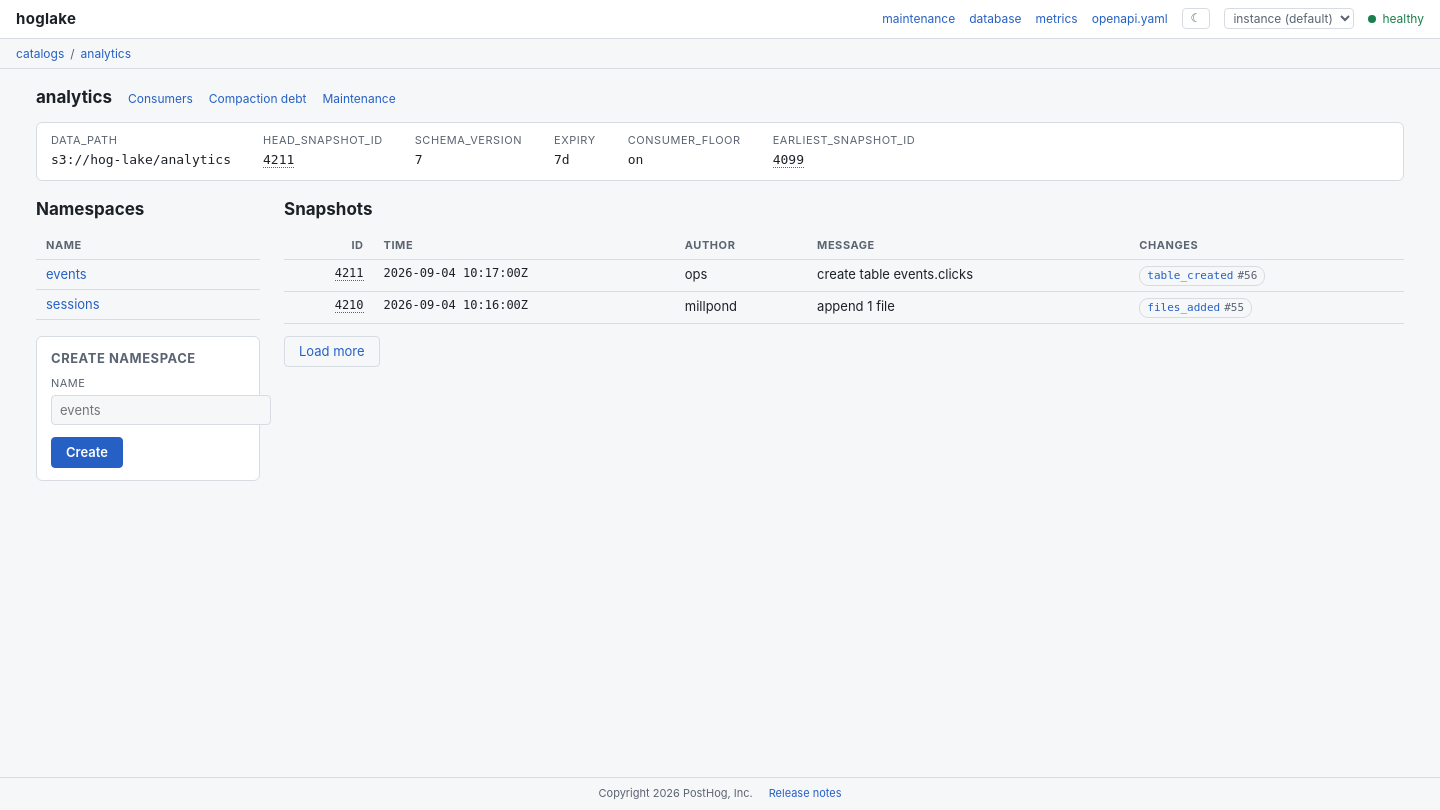
Test: CatalogPage › pages the timeline older via before/limit when Load more is clicked
Click the button "Load more" at (332, 351), box [284,336,380,367]
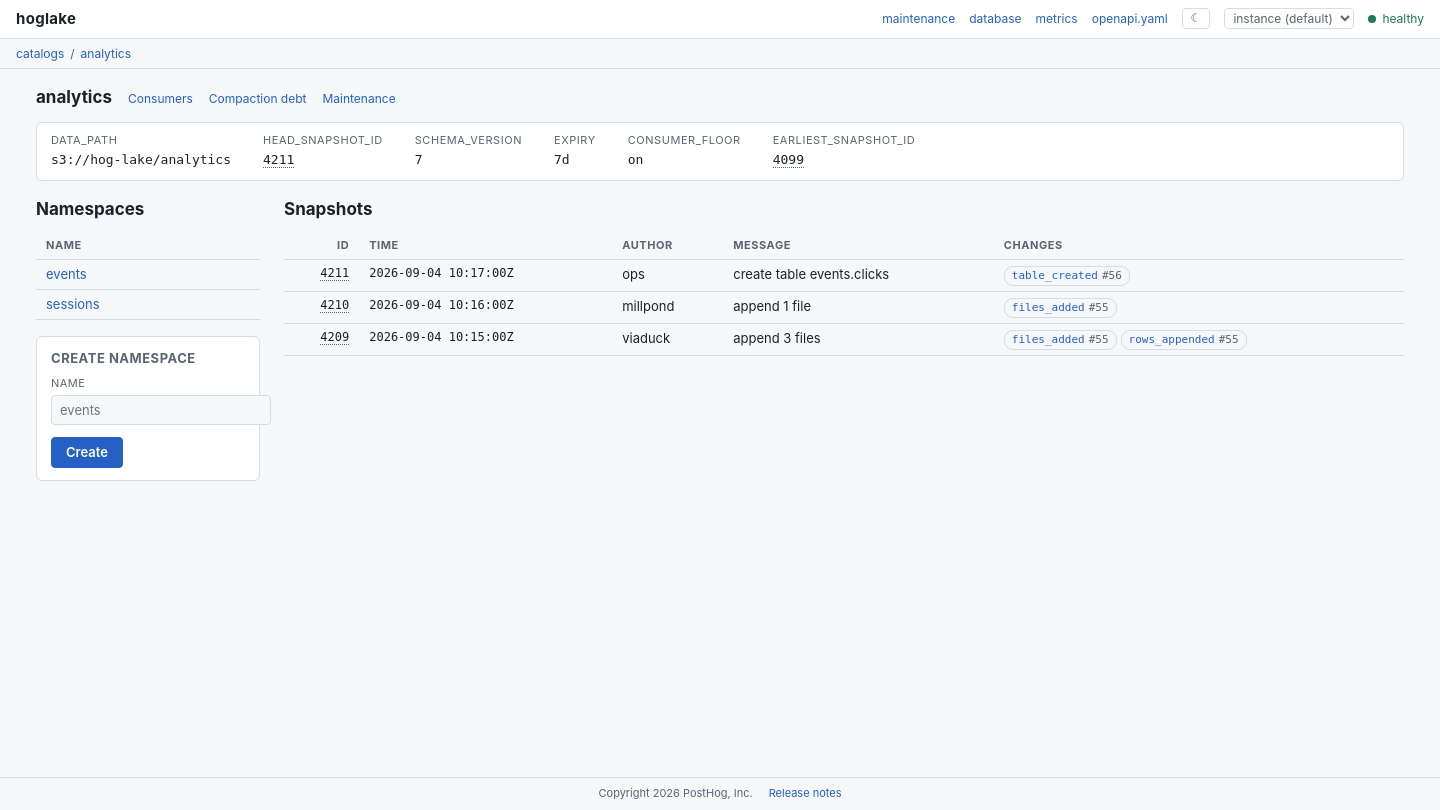
Now the text "append 3 files" is shown, box [733,329,821,348]
Now the button "Load more" is gone
